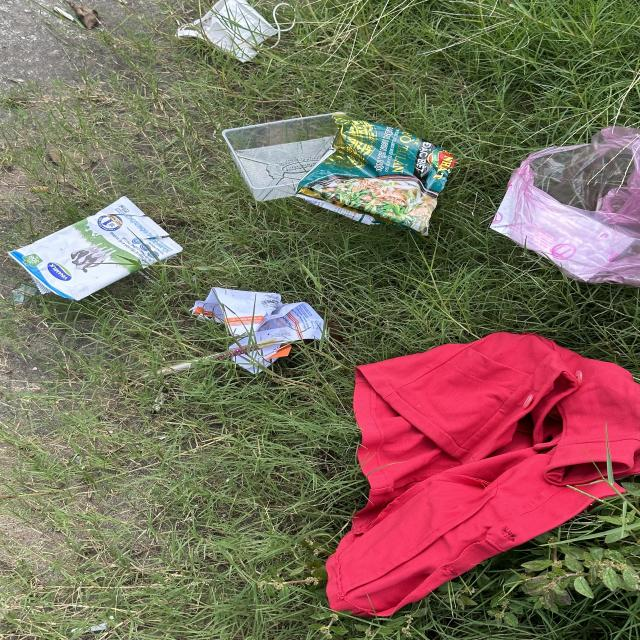bag: (491, 126, 640, 289)
clothes: (323, 332, 640, 618)
mask: (173, 0, 298, 62)
packet: (7, 196, 184, 301)
paper: (190, 287, 326, 374)
plastic holder: (223, 111, 345, 202)
snack package: (296, 114, 457, 239)
